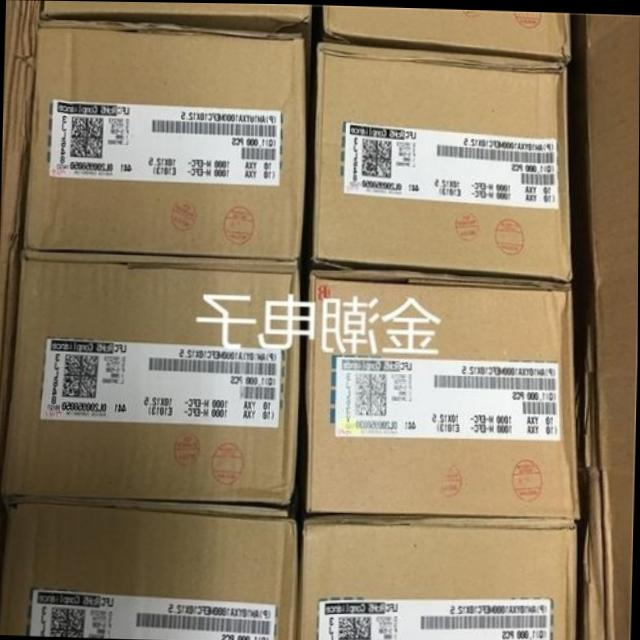box: (0, 250, 299, 506), (306, 268, 583, 517), (24, 20, 307, 258), (305, 39, 575, 280), (0, 498, 297, 640), (298, 514, 580, 640)
